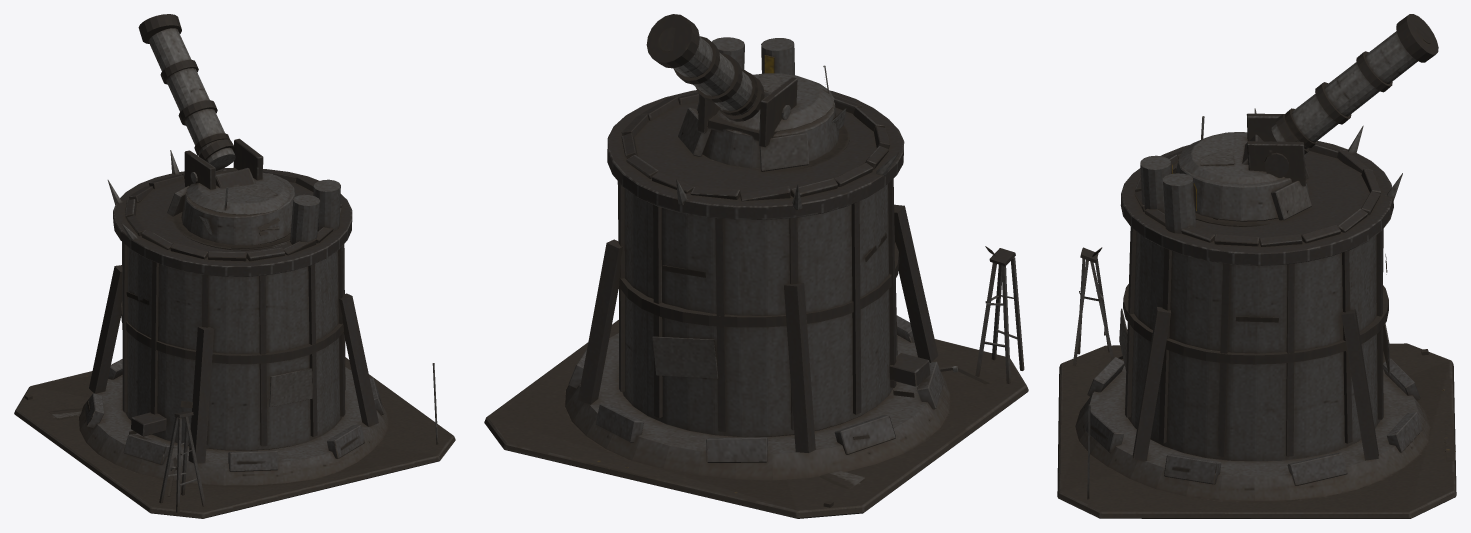
The model's file is chs_cataclysm_wreck.fbx.
The picture shows the model from 3 angles, left to right: view 1: azimuth 30°, elevation 25°; view 2: azimuth 150°, elevation 25°; view 3: azimuth 270°, elevation 25°; orthographic projection. The views are drawn at different scales.
Parts seen in each view (by area): view 1: base_bar, turret_bar; view 2: base_bar, turret_bar; view 3: base_bar, turret_bar.
Boxes of the visible parts, box(x1,y1,x2,y2) form: base_bar: box(14, 150, 455, 518); turret_bar: box(138, 14, 295, 245); base_bar: box(484, 37, 1028, 518); turret_bar: box(646, 14, 846, 171); base_bar: box(1057, 108, 1456, 518); turret_bar: box(1173, 14, 1438, 221).
Bounding box in the file's own units: 2350 × 2877 × 2337.
2 materials, 2 textured.
